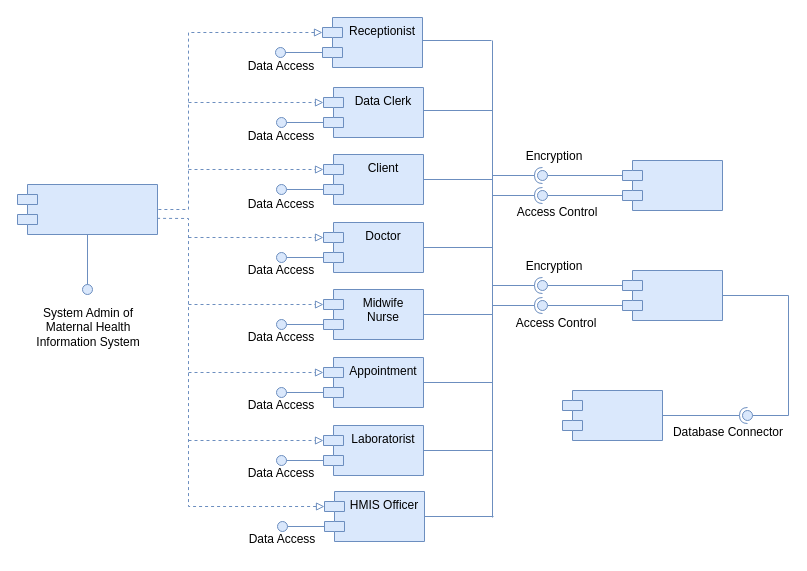
Some shapes in this 807 by 571 pixel diagram are drawn without their labels. The shapes that lost their labels are listed below. From the top down, each one's centre as x and y in pixels, then its label:
(672,185): Security
(87,209): Maternal Health Information System
(672,295): Persistance
(612,415): Database
